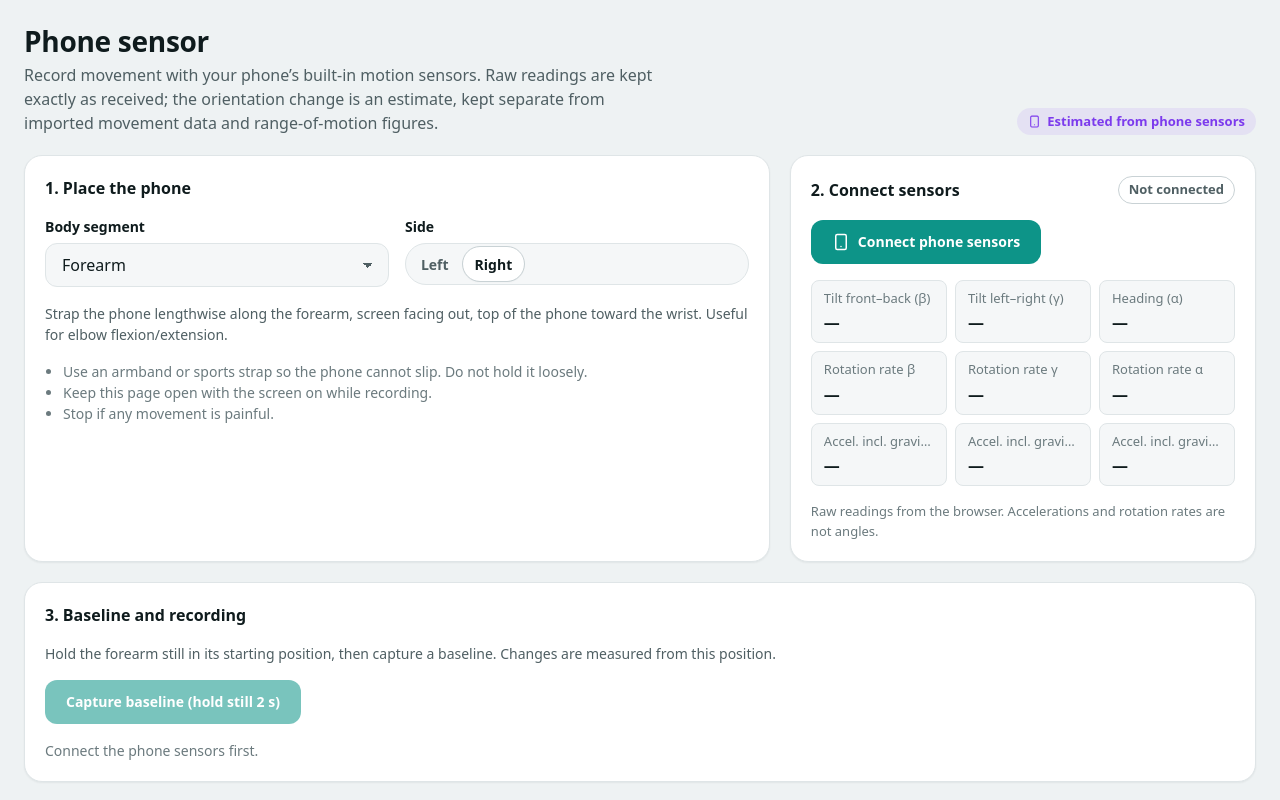
Test: phone sensor monitor (simulated sensor events) › handles a denied permission request (iPhone)
The width and height of the screenshot is (1280, 800).
Click the button "Connect phone sensors" at [926, 242], box [811,220,1041,264]
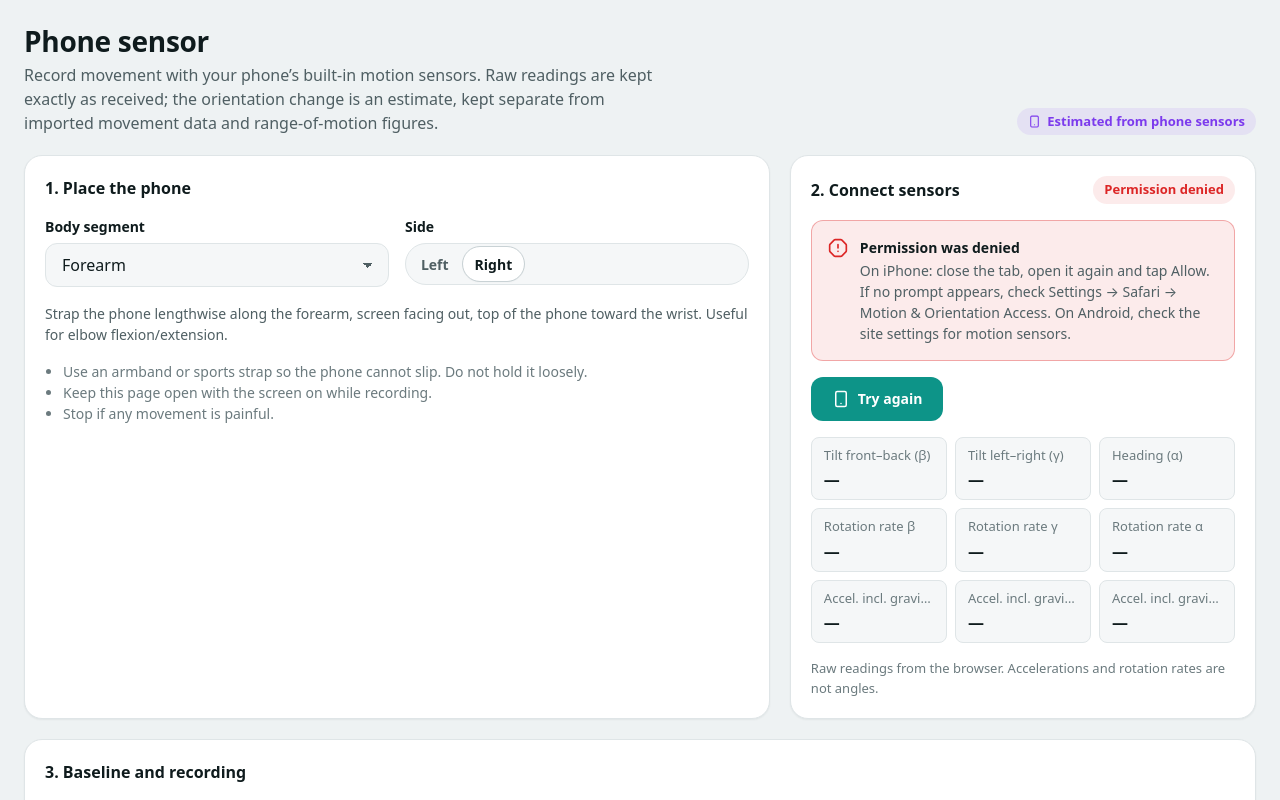
Result: the text "Permission was denied" is shown at [860,238,1020,256]
